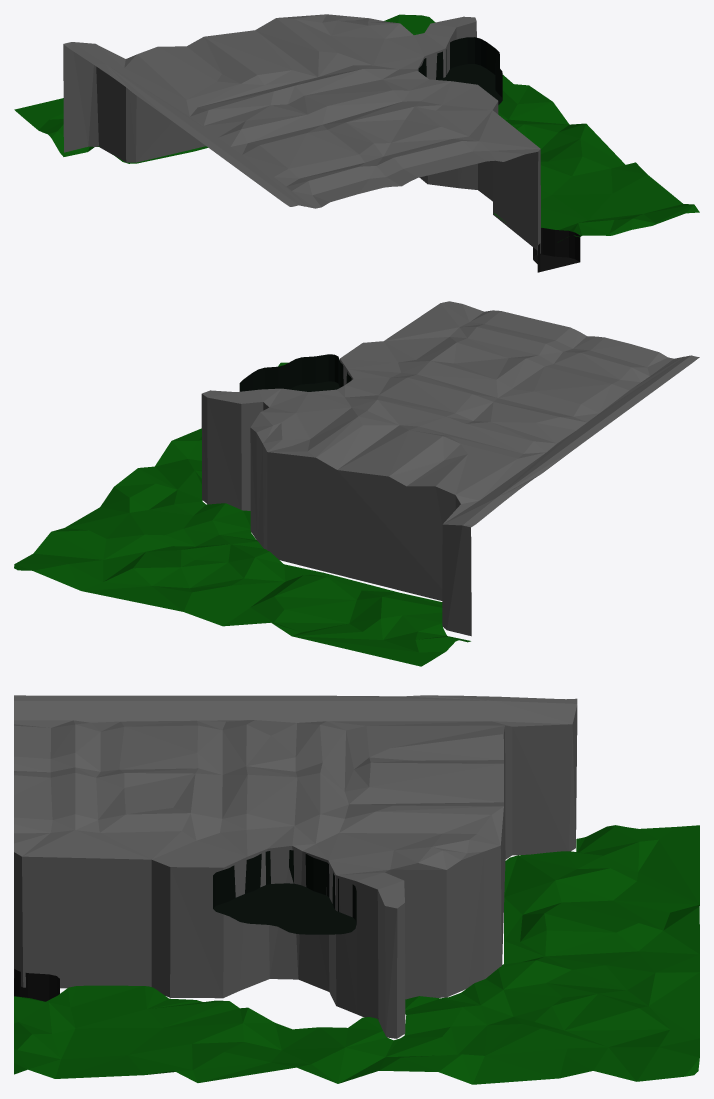
File: newshj-7.glb
3 views of the same model, one above another, from view 1: azimuth 30°, elevation 25°; view 2: azimuth 150°, elevation 25°; view 3: azimuth 270°, elevation 25° (orthographic). The views are drawn at different scales.
Parts seen in each view (by area): view 1: newshj-7; view 2: newshj-7; view 3: newshj-7.
Boxes of the visible parts, box(x1,y1,x2,y2) form: newshj-7: box(14, 14, 699, 272); newshj-7: box(14, 301, 699, 666); newshj-7: box(14, 695, 699, 1084).
Size of the model in its own units: 2 by 0.5903 by 2.33.
